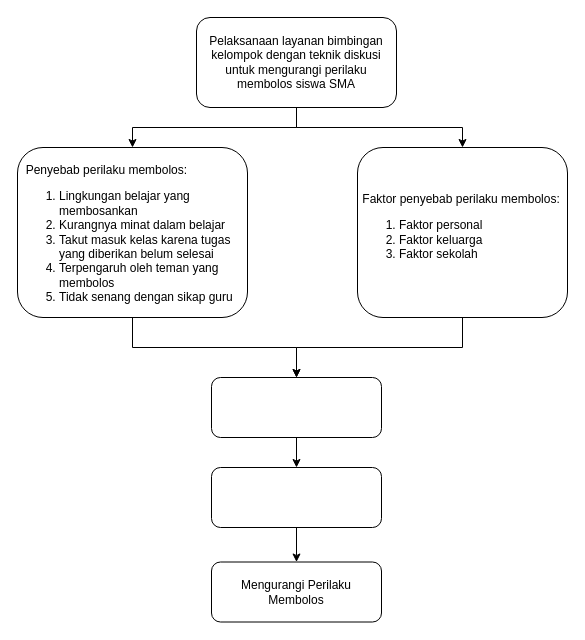
The diagram is 585 pixels wide and 640 high, and some of its shapes have lost their labels. Here are the shapes that lost their labels. From the top down, the centre of each, then its label:
At (x=296, y=407): "Layanan Bimbingan Kelompok".
At (x=296, y=497): "Teknik Diskusi".
